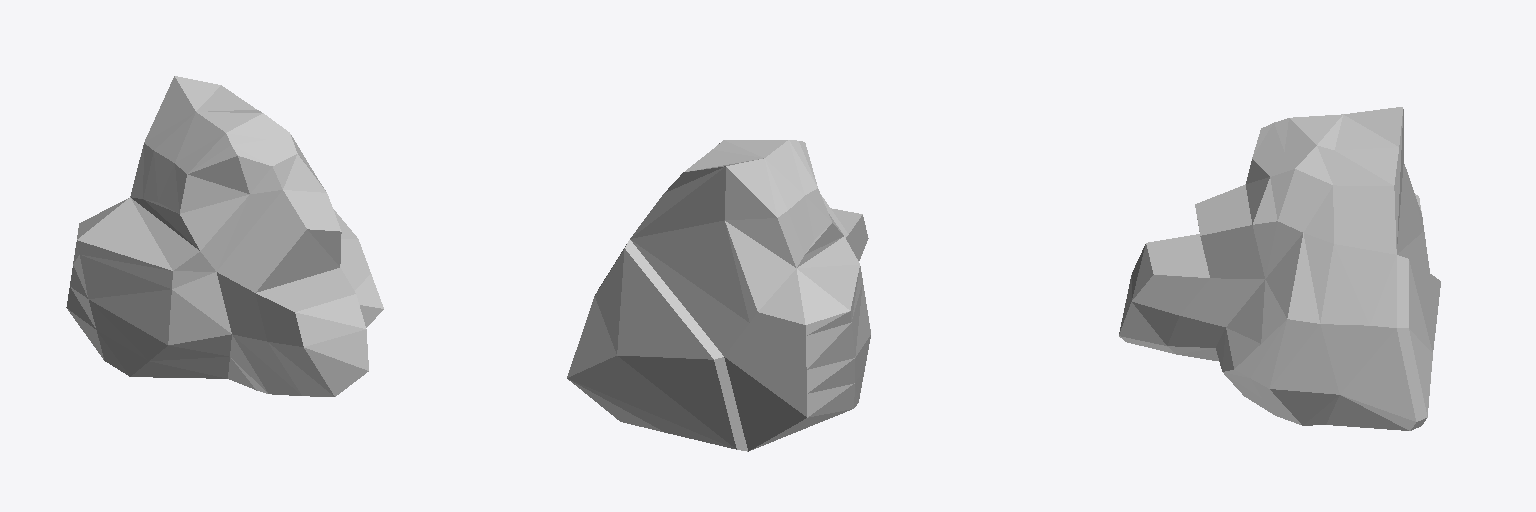
File: Rock_2_Cube.obj
3 renders of one model, left to right at view 1: azimuth 30°, elevation 25°; view 2: azimuth 150°, elevation 25°; view 3: azimuth 270°, elevation 25°, orthographic.
Parts seen in each view (by area): view 1: Rock_2_Cube.002; view 2: Rock_2_Cube.002; view 3: Rock_2_Cube.002.
Part boxes in pixels (x1,y1,x2,y2): Rock_2_Cube.002: (66,76,383,396); Rock_2_Cube.002: (567,140,870,451); Rock_2_Cube.002: (1119,107,1440,430).
Bounding box in the file's own units: 1.05 × 1.08 × 1.12.